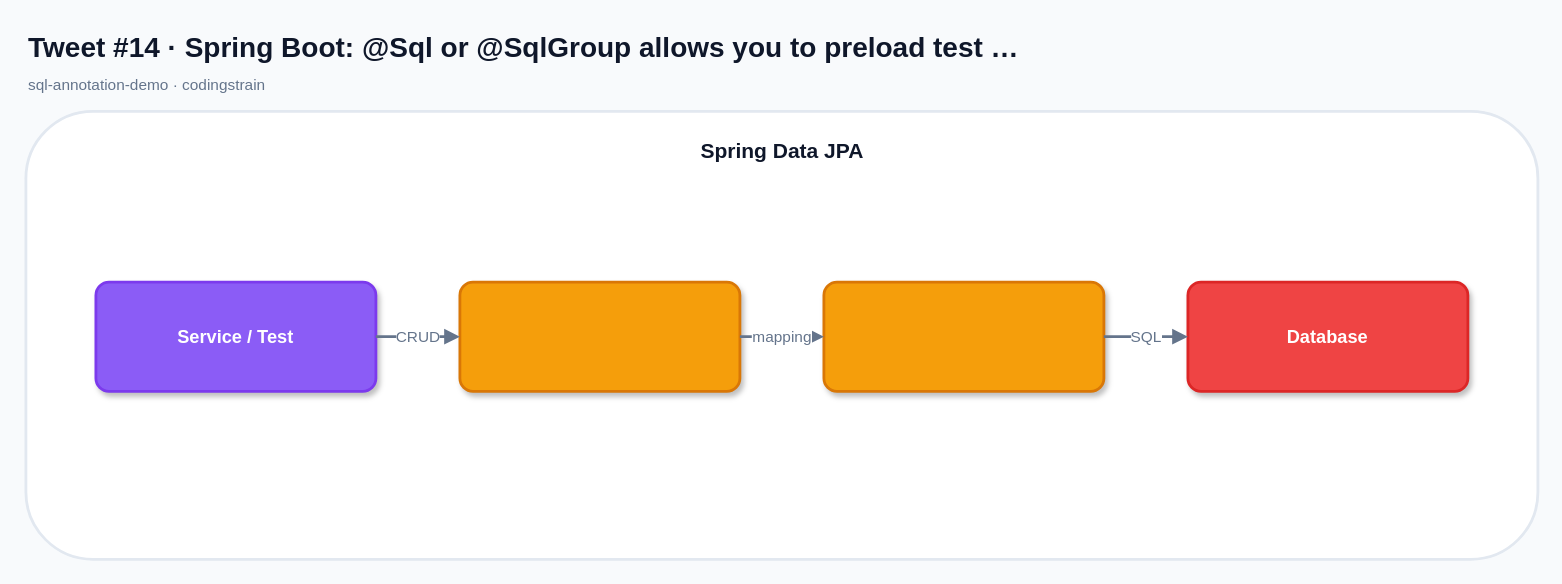
Image size: 1562x584. Some labels were removed from this diagram. Here are the shapes that lost their labels. From the top down, the centre of each, then its label:
At point (600, 338): "JpaRepository".
At point (964, 338): "Entity".
